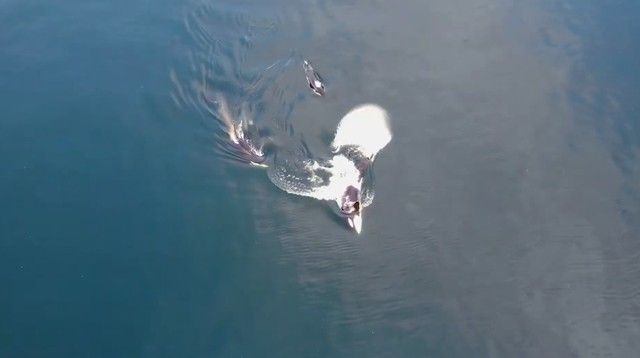whale: (201, 89, 287, 175), (337, 120, 393, 240), (300, 60, 335, 112)
